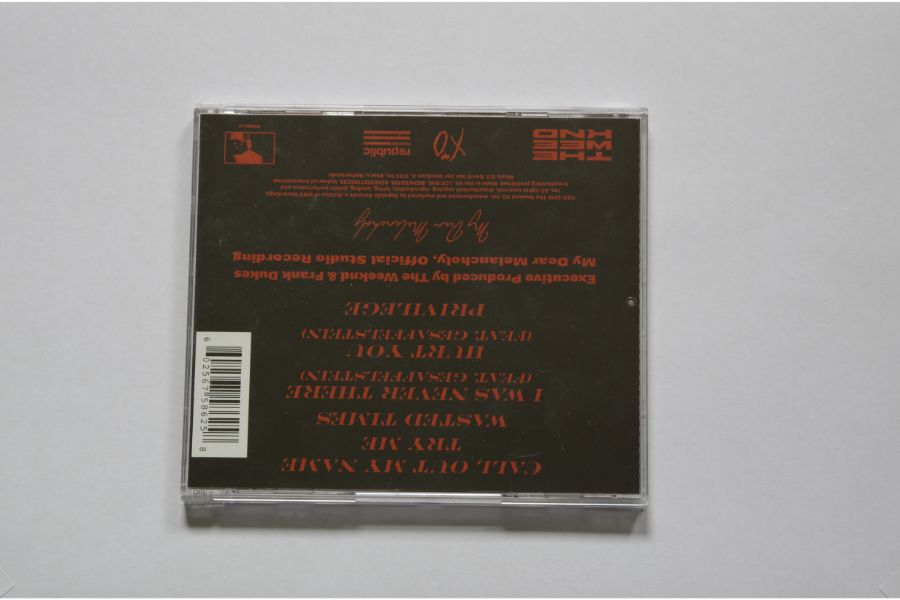album: (180, 102, 655, 514)
